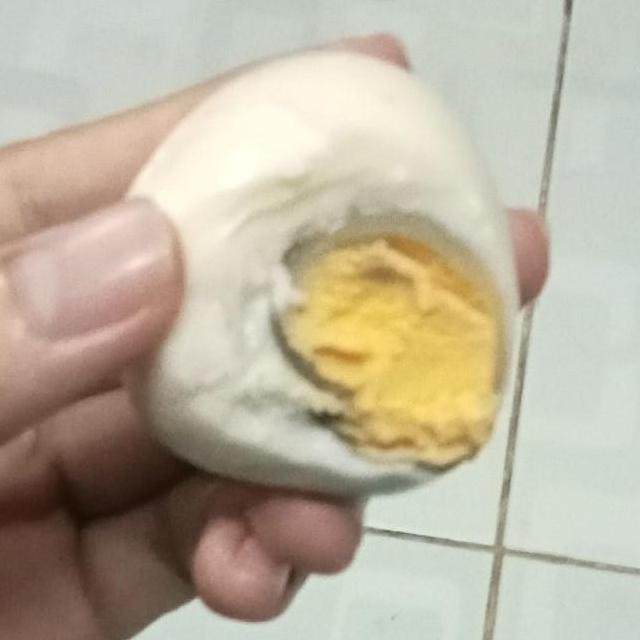trung: (91, 42, 531, 506)
